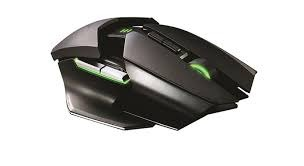mouse: (38, 15, 278, 152)
